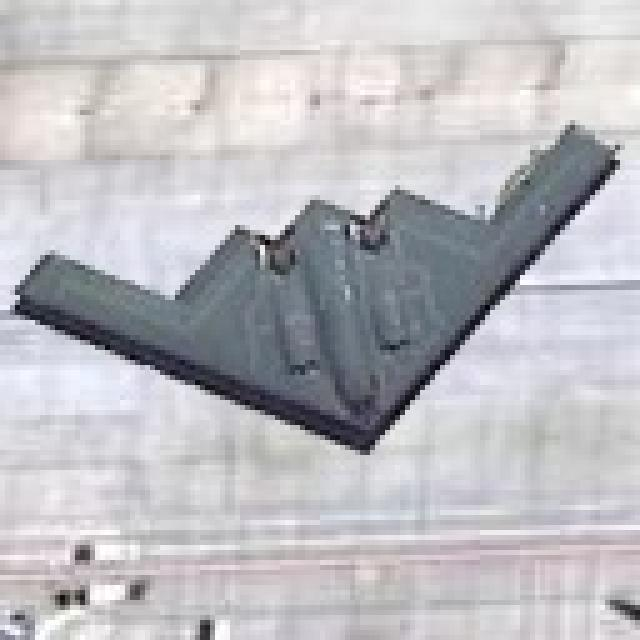B-2_TopDown: (5, 115, 620, 455)
